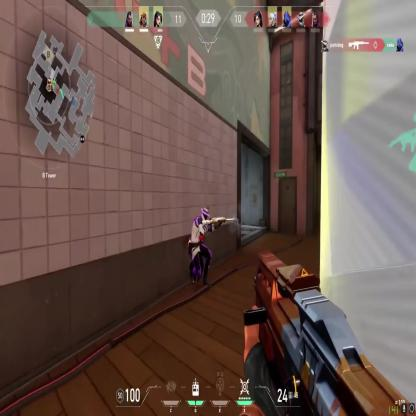enemy: (189, 207, 211, 288)
enemy_head: (201, 208, 208, 224)
